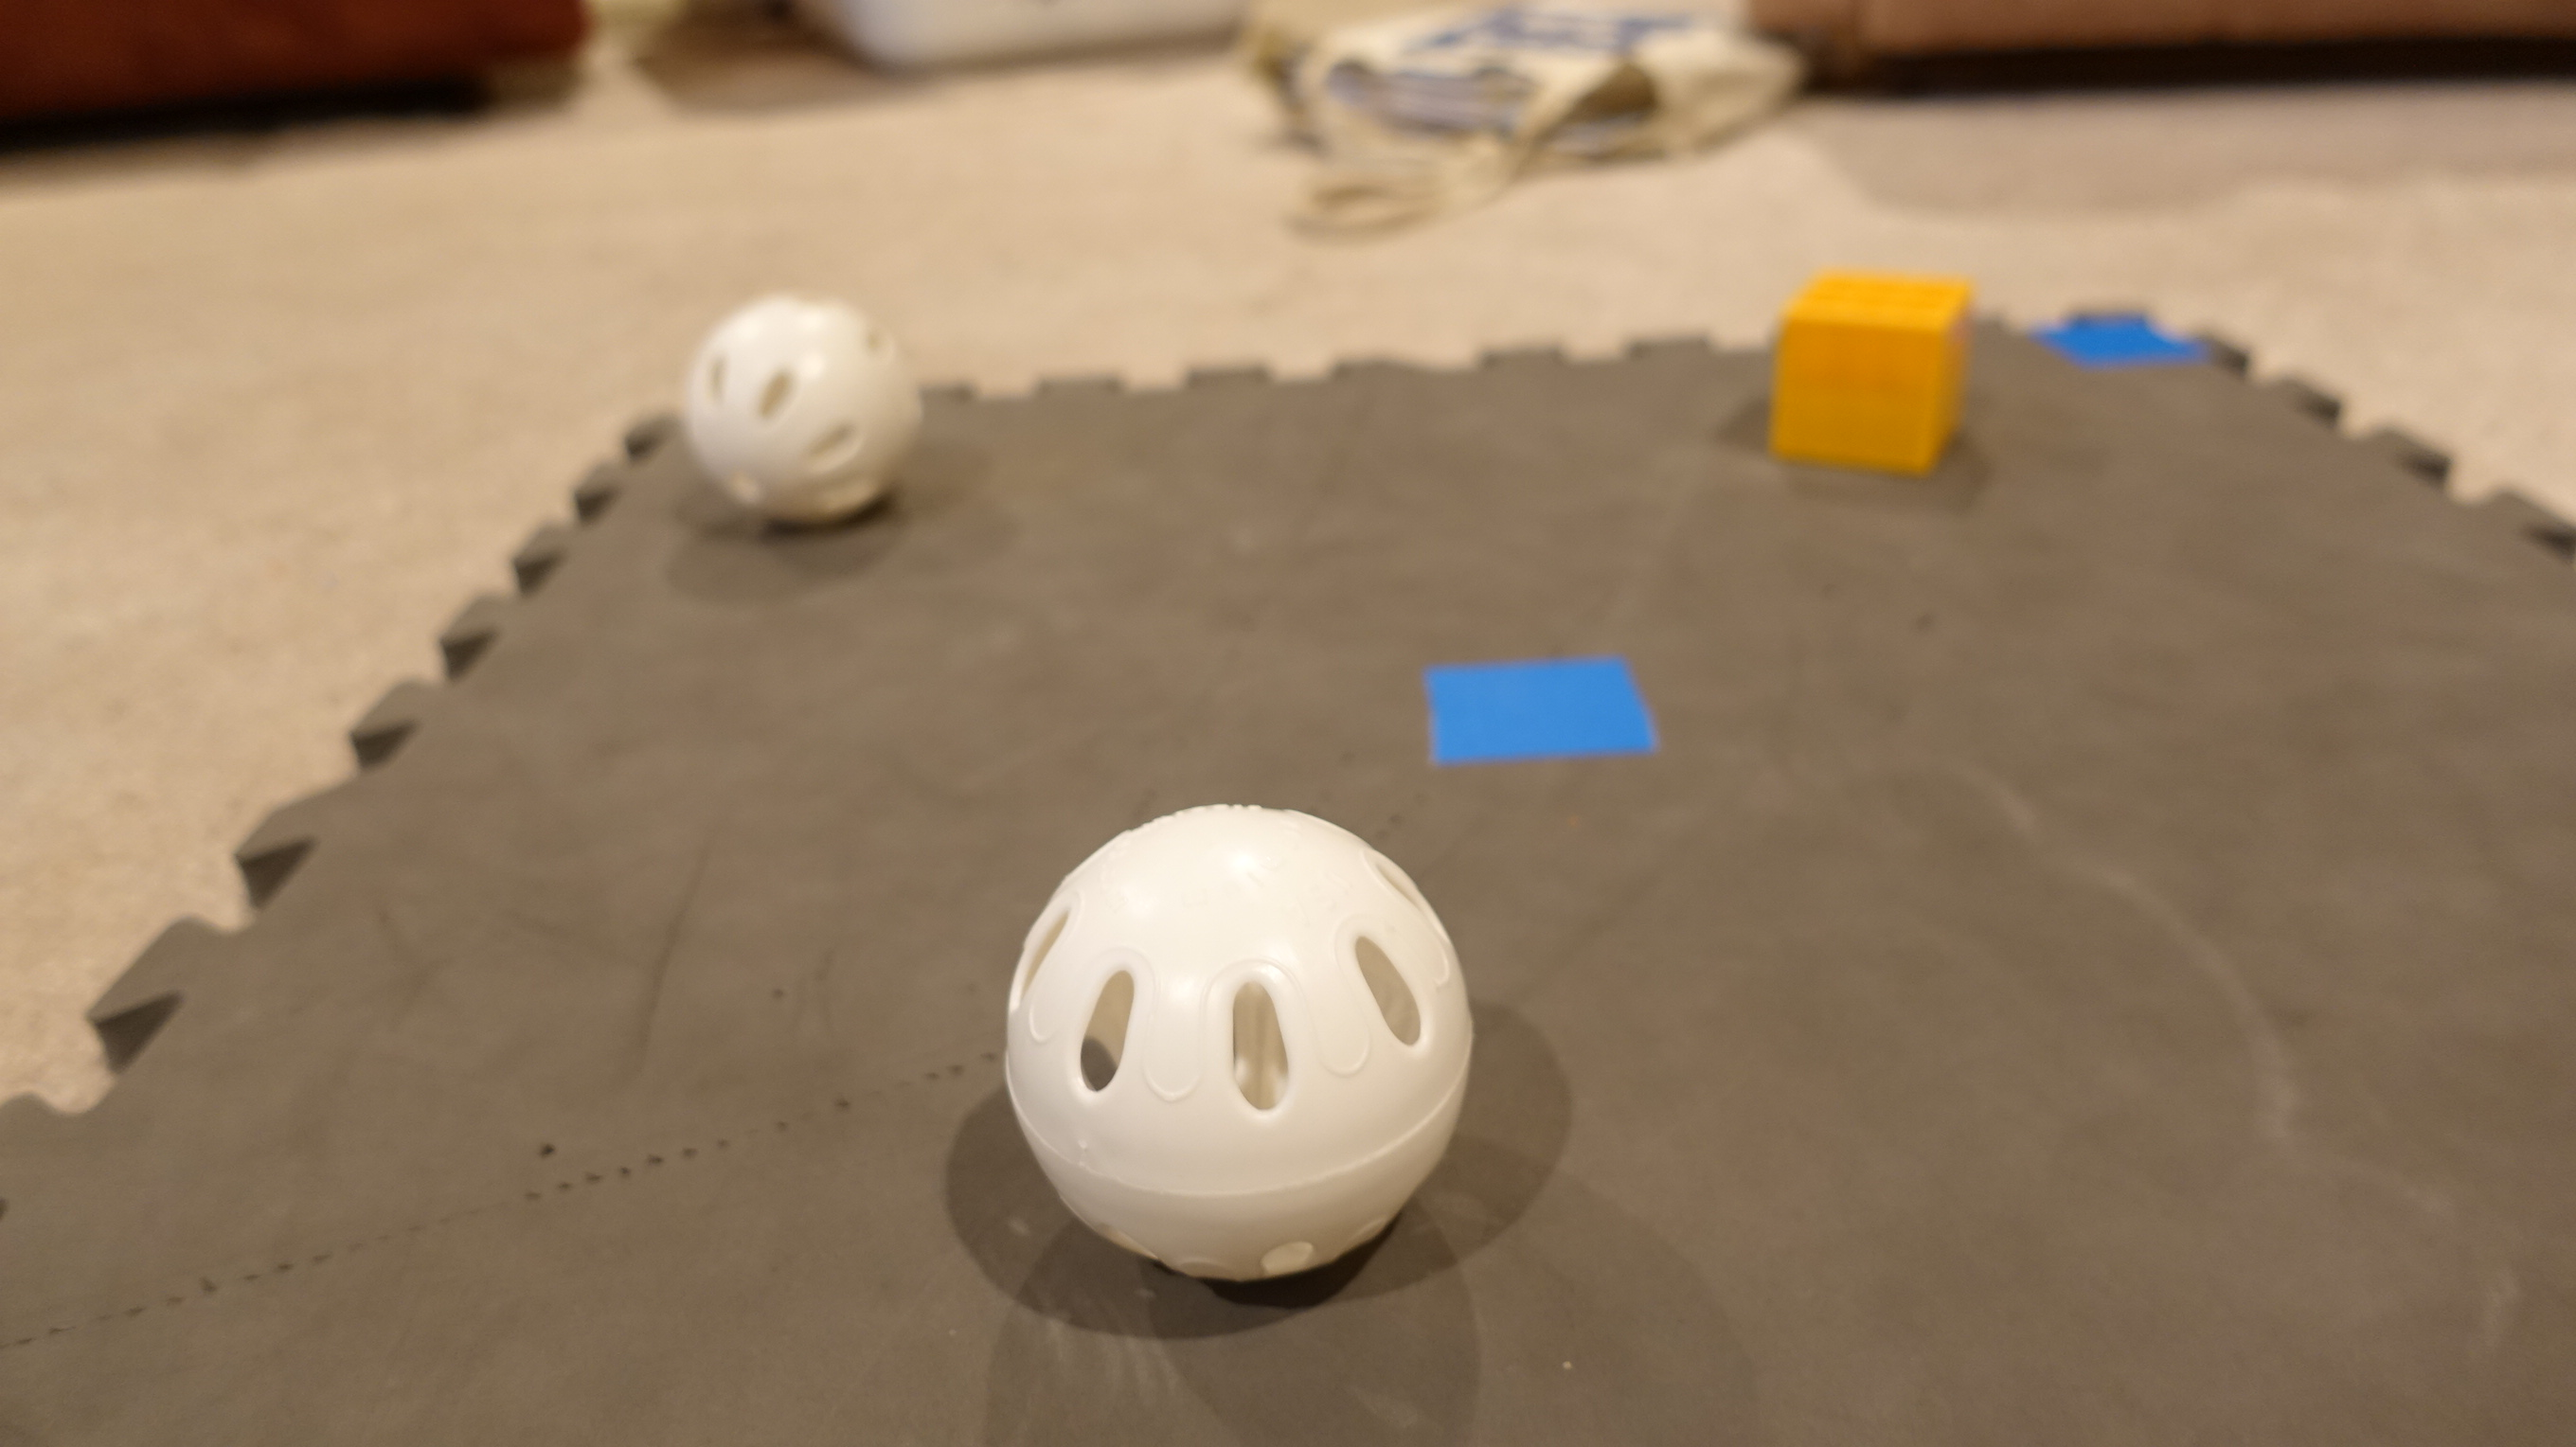gold: (1762, 262, 1983, 490)
silver: (1000, 805, 1472, 1288), (678, 288, 927, 529)
